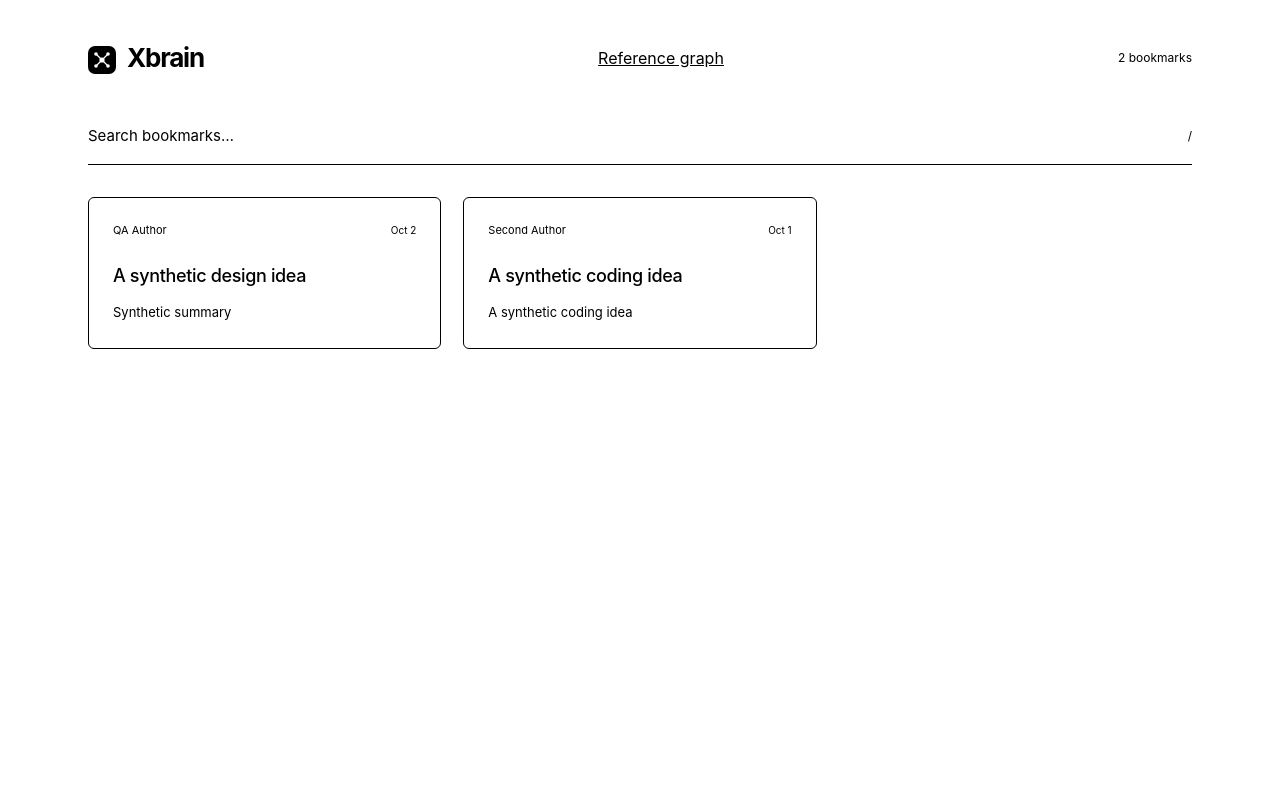
it: Read-only bookmark gallery › external images have no image element before explicit consent, including in details
The width and height of the screenshot is (1280, 800).
Step 1. Click the button "QA Author Oct 2 A synthetic design idea Synthetic summary" → (265, 273), box [89,198,440,348]
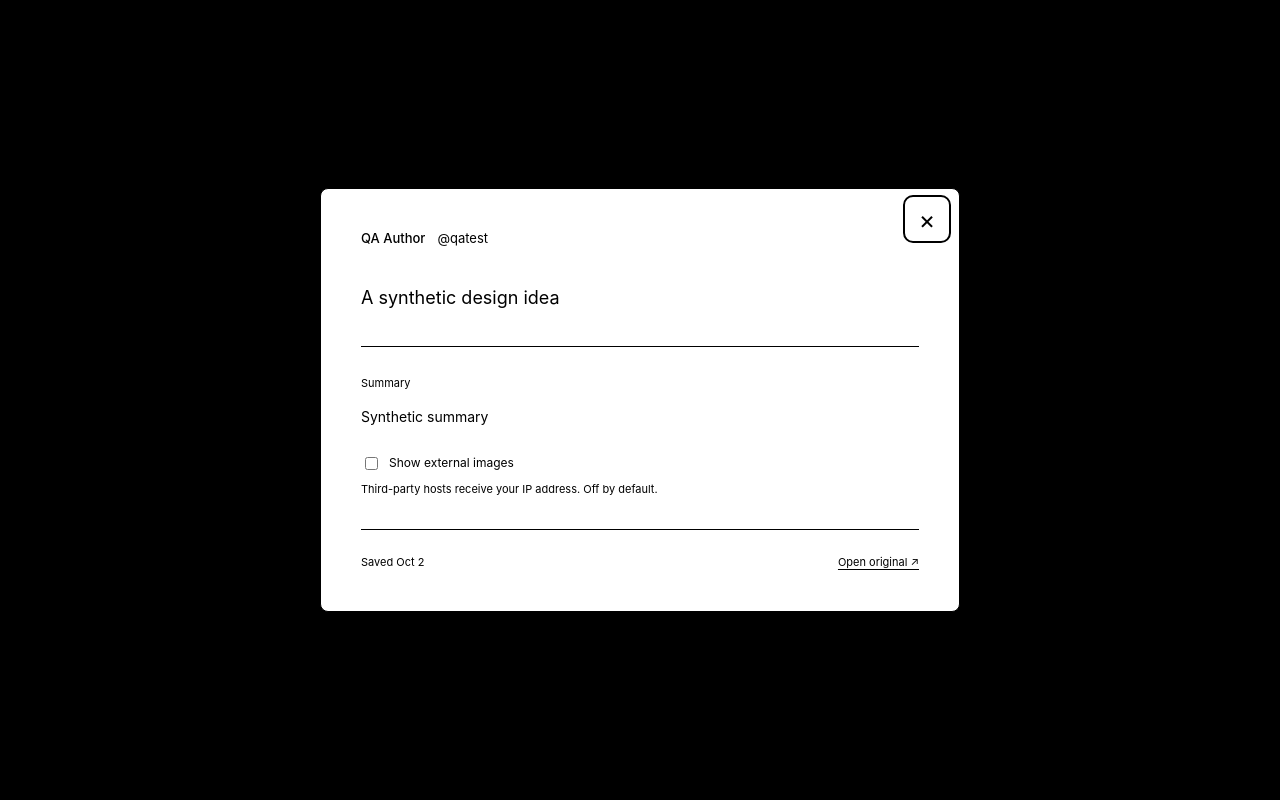
Expected: the checkbox with id "external-images" is not checked, [365,457,378,470]
